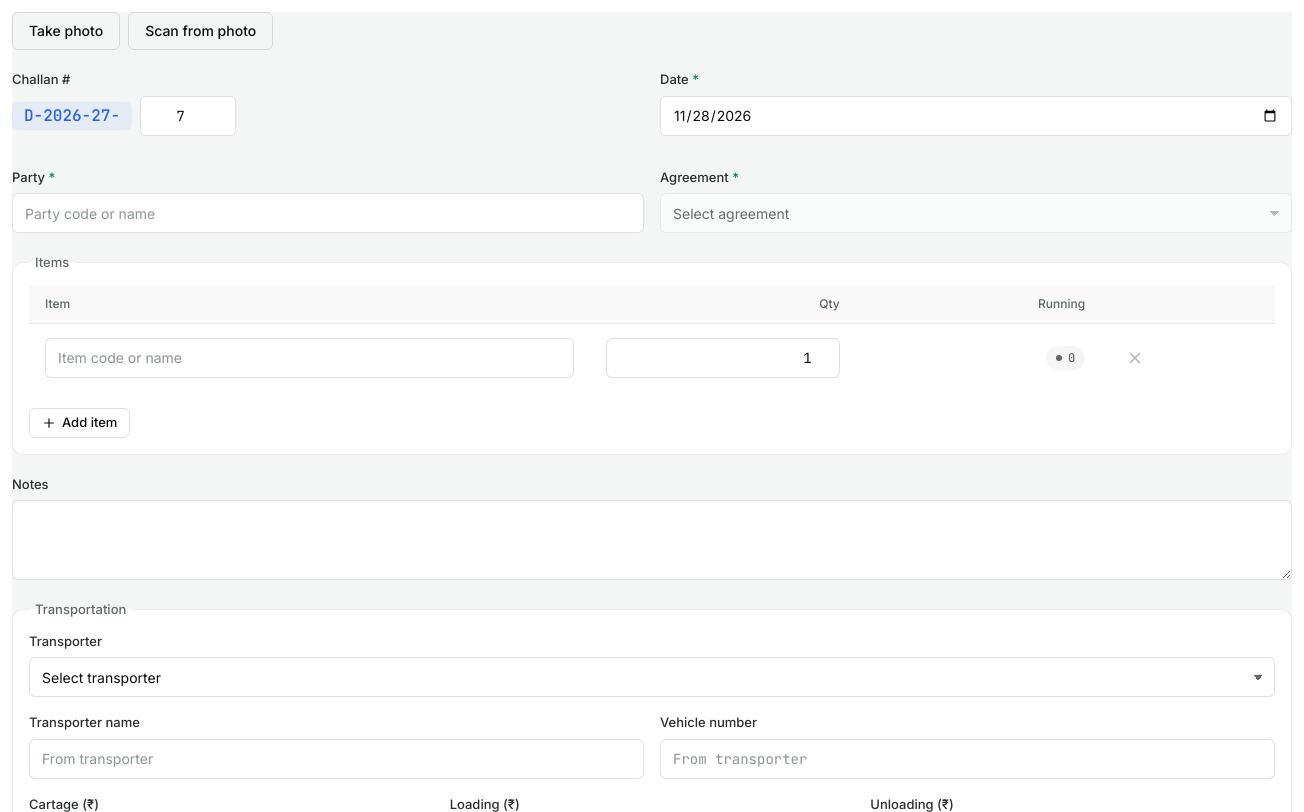
Test: ChallanForm › shows an unknown running quantity when the items-with-party load fails
In the dropdown labelled "Party *": coordinates (328, 213) [12,193,644,233], type "MEH"
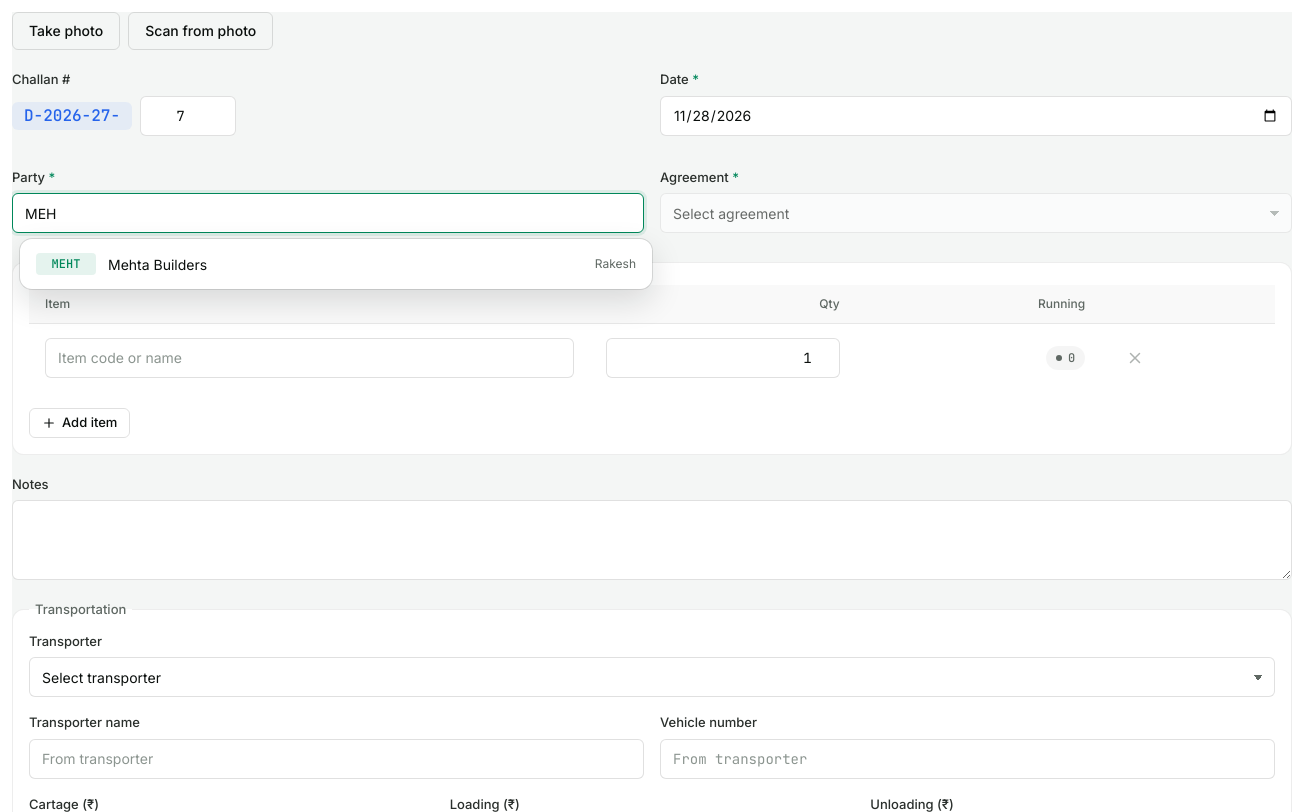
Click the option "MEHT Mehta Builders Rakesh": coordinates (66, 264) [36,253,636,275]
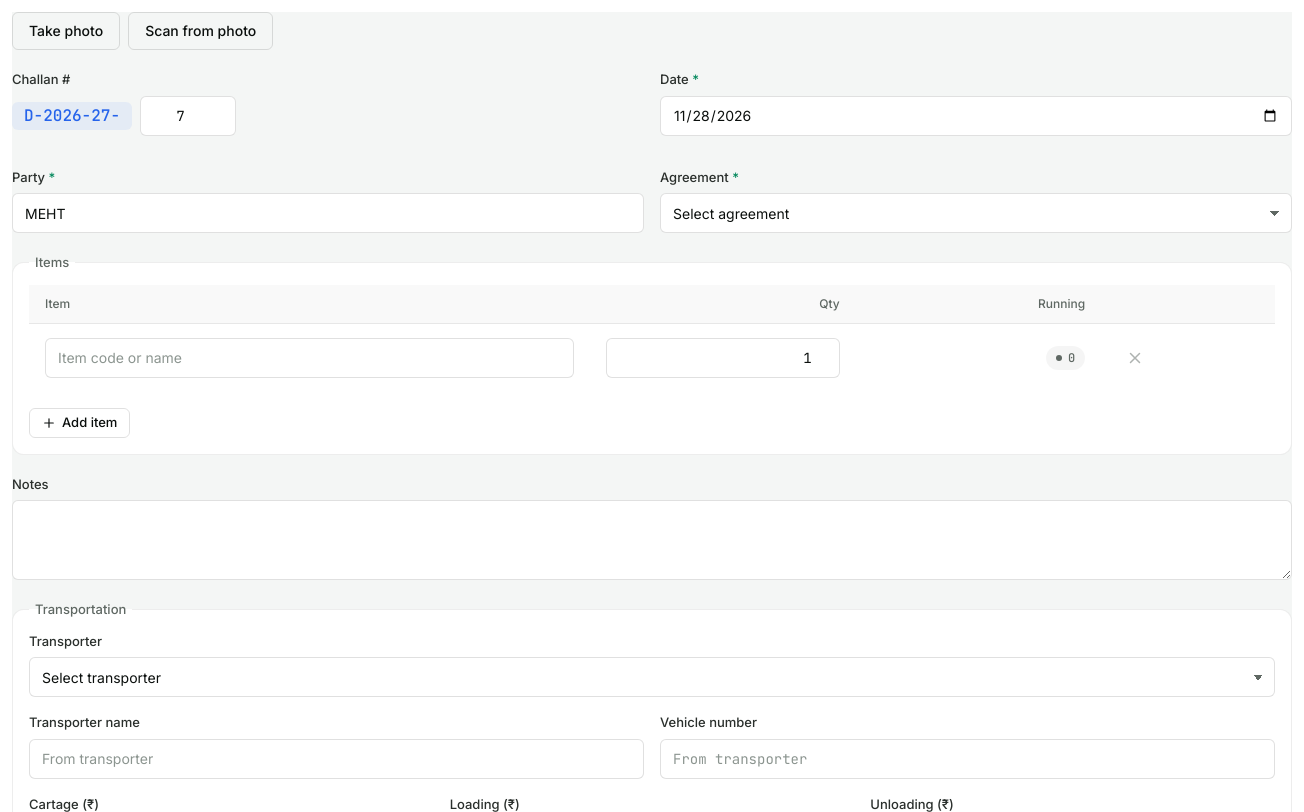
Select "S1 — Plot 12 (from 1 Apr)" in the dropdown labelled "Agreement *": coordinates (976, 213) [660,193,1292,233]
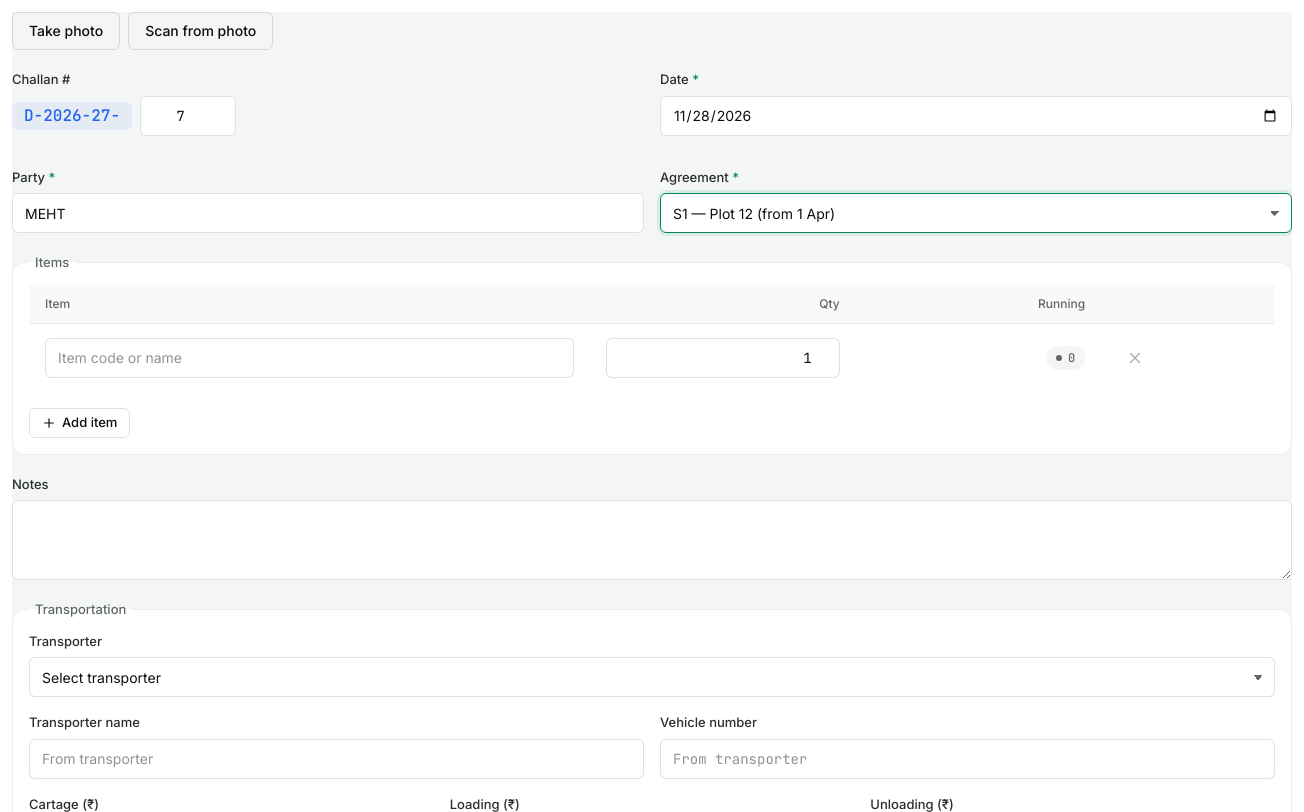
In the dropdown named "item for row": coordinates (309, 358) [45,338,574,378], type "pi"
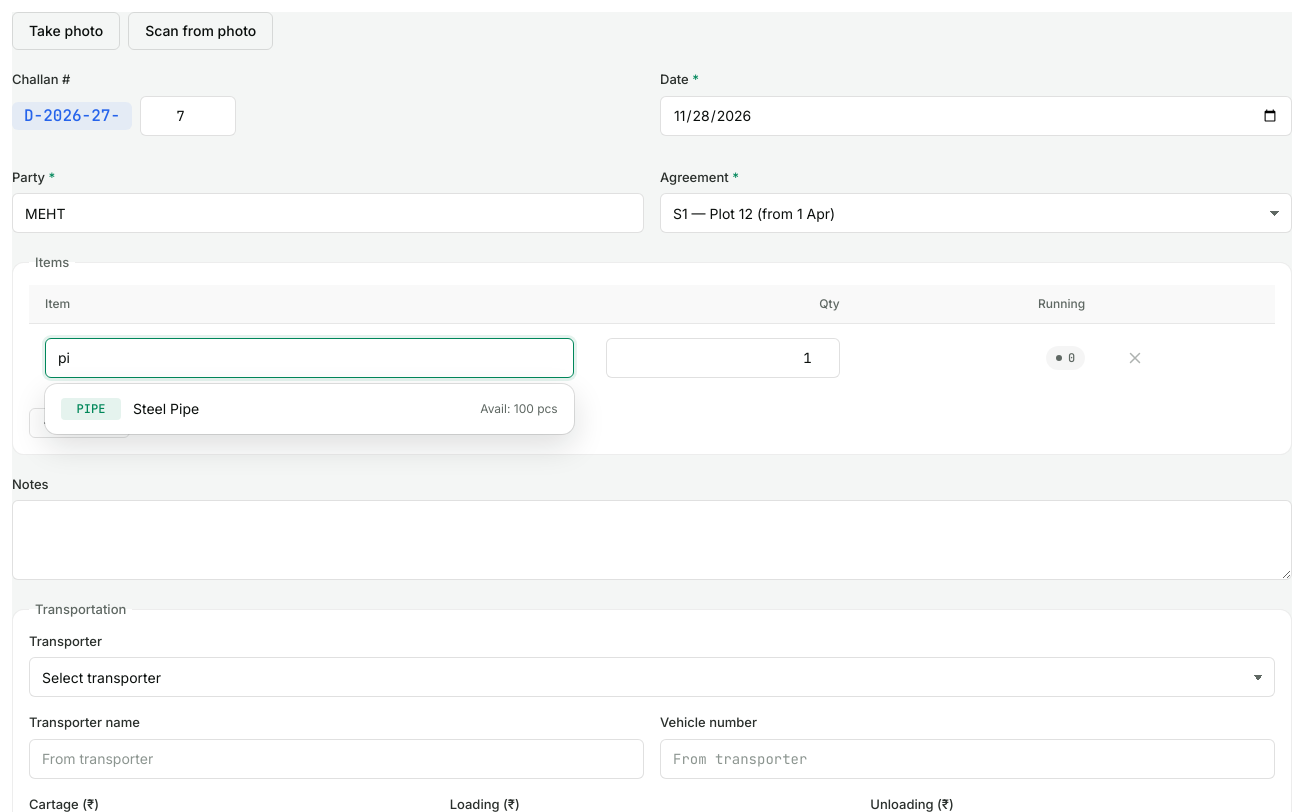
Click the option "PIPE Steel Pipe Avail: 100 pcs": coordinates (91, 408) [61,398,558,420]
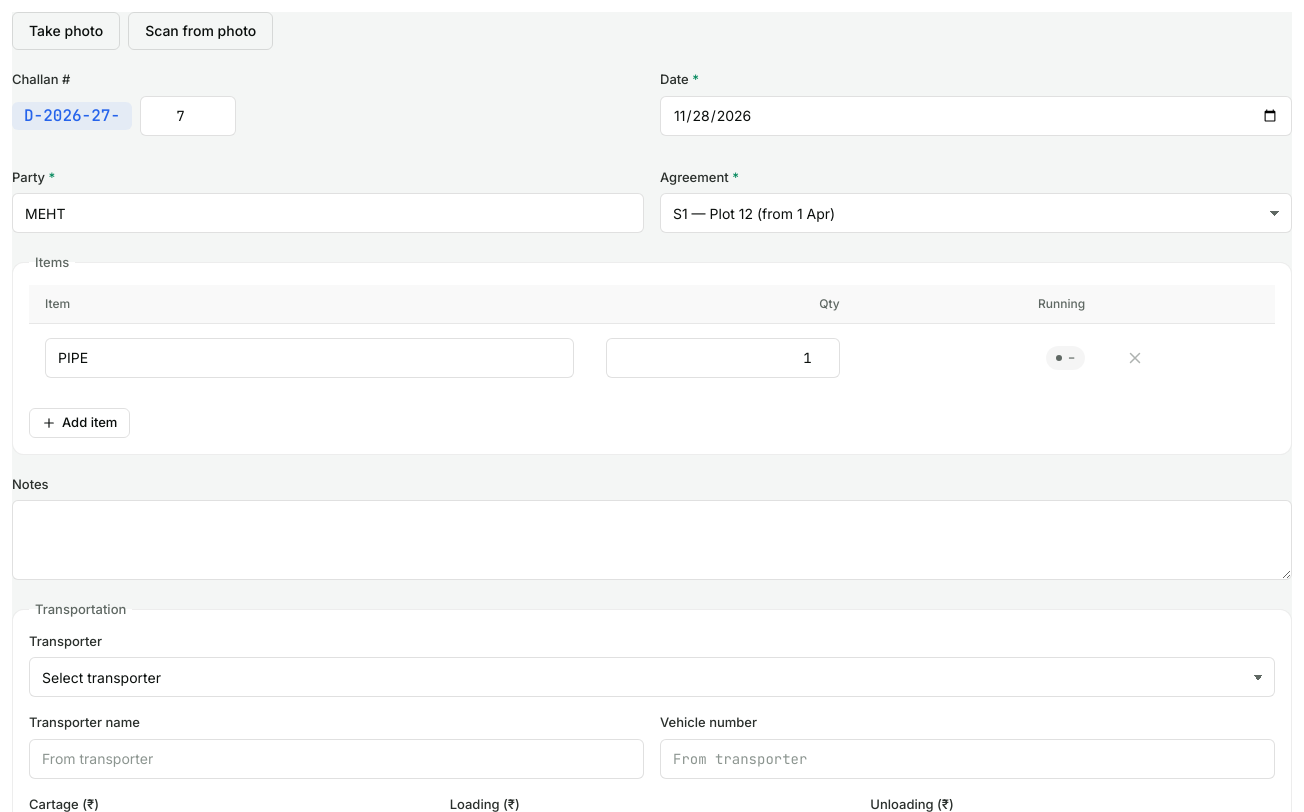
Expected: the element titled "With the party now" reads "–", [1068,350,1075,366]
